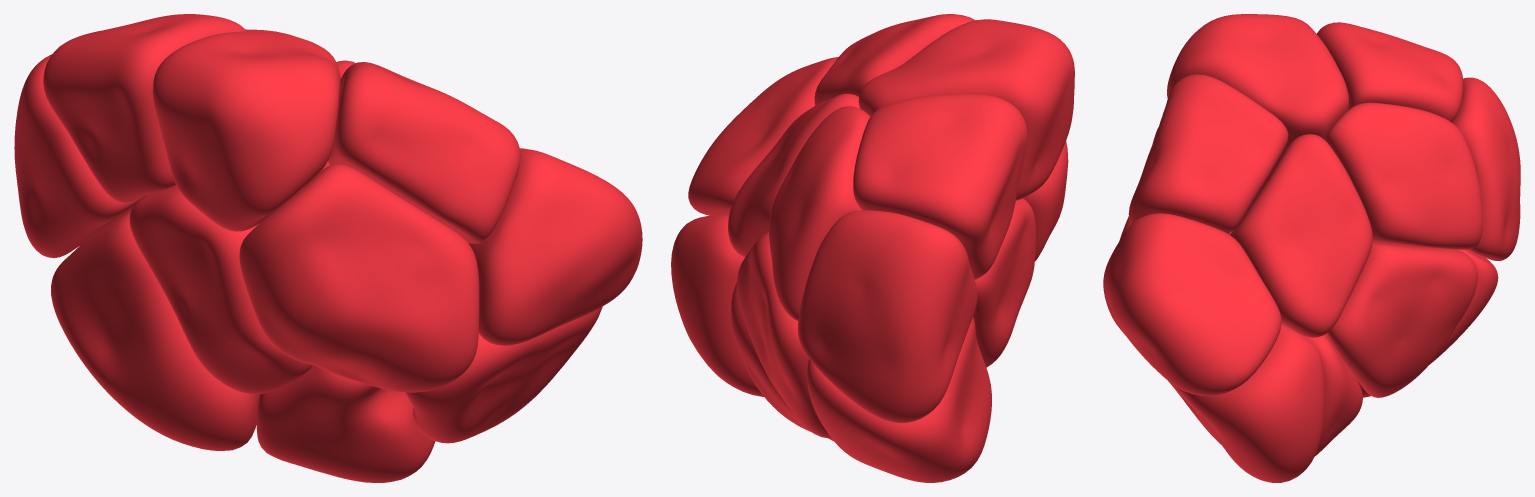
The picture shows the model from 3 angles, left to right: view 1: azimuth 30°, elevation 25°; view 2: azimuth 150°, elevation 25°; view 3: azimuth 270°, elevation 25°; orthographic projection. The views are drawn at different scales.
Parts seen in each view (by area): view 1: a5.012, a5.005, a5.006, a5.003, a5.013, a5.007, a5.001, a5.008, a5.010, a5.009; view 2: a5.010, a5.007, a5.005, a5.006, a5.011, a5.009, a5.003, a5.004, a5.001, a5.002, a5.013, a5.012 (+1 smaller); view 3: a5.003, a5.002, a5.011, a5.013, a5.004, a5.005, a5.009, a5.007, a5.010, a5.008, a5.006.
Boxes of the visible parts, left/top/right/bottom form: a5.012: left=239, top=164, right=479, bottom=392; a5.005: left=152, top=31, right=340, bottom=231; a5.006: left=51, top=207, right=259, bottom=450; a5.003: left=468, top=148, right=642, bottom=345; a5.013: left=328, top=62, right=520, bottom=243; a5.007: left=43, top=14, right=246, bottom=202; a5.001: left=129, top=185, right=312, bottom=394; a5.008: left=256, top=365, right=435, bottom=482; a5.010: left=14, top=54, right=146, bottom=258; a5.009: left=405, top=306, right=602, bottom=443; a5.010: left=798, top=210, right=977, bottom=422; a5.007: left=853, top=93, right=1027, bottom=279; a5.005: left=858, top=19, right=1074, bottom=200; a5.006: left=806, top=317, right=991, bottom=482; a5.011: left=769, top=106, right=870, bottom=320; a5.009: left=671, top=214, right=763, bottom=396; a5.003: left=688, top=57, right=838, bottom=215; a5.004: left=737, top=232, right=831, bottom=438; a5.001: left=973, top=198, right=1035, bottom=367; a5.002: left=728, top=93, right=859, bottom=256; a5.013: left=814, top=14, right=975, bottom=105; a5.012: left=1023, top=141, right=1068, bottom=261; a5.003: left=1103, top=213, right=1281, bottom=395; a5.002: left=1230, top=134, right=1372, bottom=337; a5.011: left=1325, top=102, right=1482, bottom=249; a5.013: left=1128, top=74, right=1288, bottom=234; a5.004: left=1327, top=242, right=1477, bottom=397; a5.005: left=1167, top=14, right=1348, bottom=162; a5.009: left=1168, top=324, right=1324, bottom=482; a5.007: left=1317, top=22, right=1463, bottom=122; a5.010: left=1452, top=77, right=1520, bottom=260; a5.008: left=1281, top=323, right=1362, bottom=456; a5.006: left=1357, top=249, right=1498, bottom=397.
Size of the model in its own units: 3825 by 3816 by 3827.
